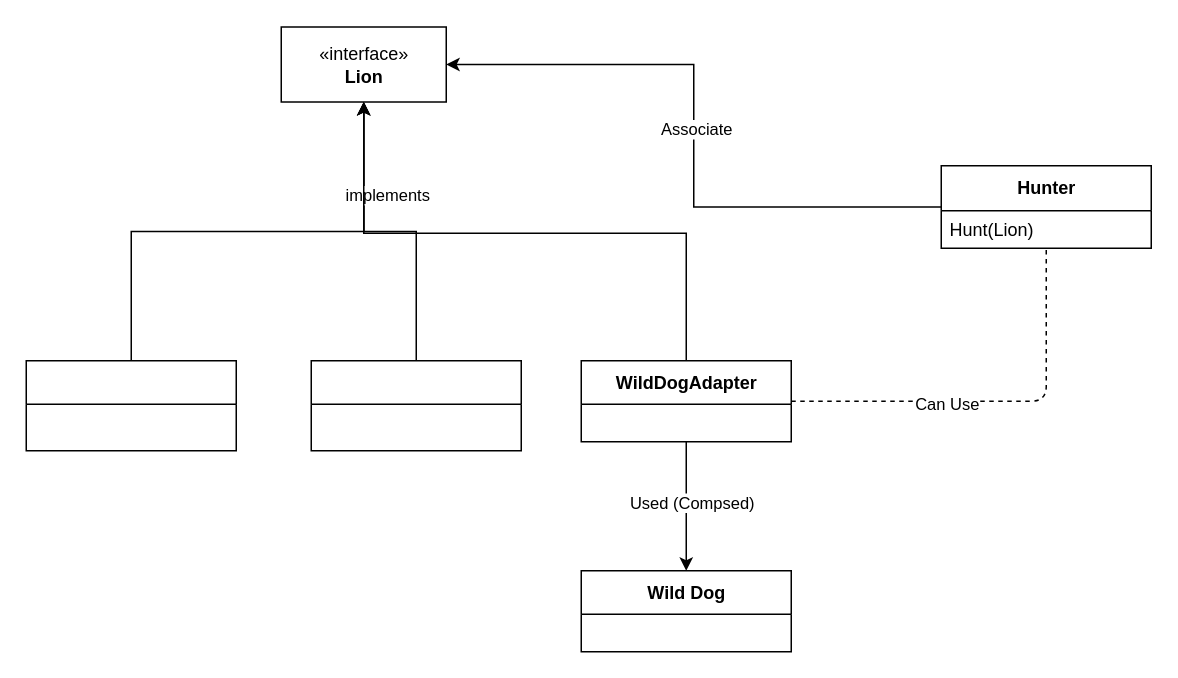
Some shapes in this 1178 by 678 pixel diagram are drawn without their labels. The shapes that lost their labels are listed below. From the top down, each one's centre as x and y in pixels, then its label:
At [130,405]: "African Lion".
At [415,405]: "Asian Lion".
